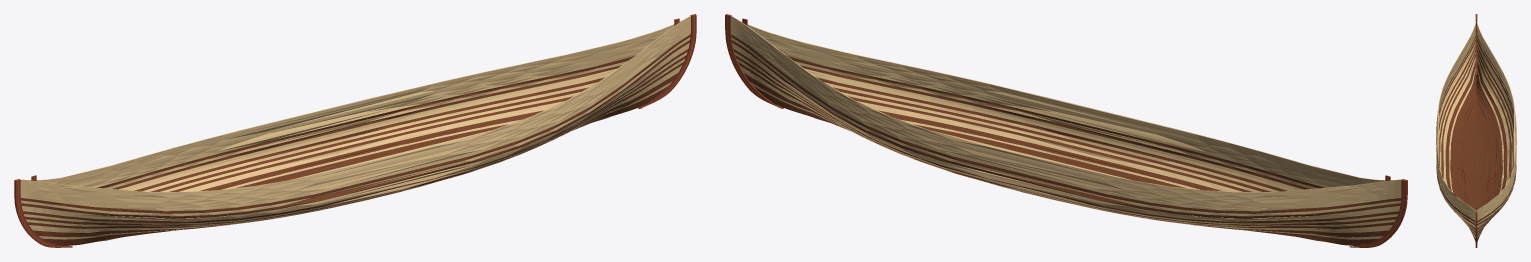
The model's file is canoe_hull_shell.glb.
The picture shows the model from 3 angles, left to right: view 1: azimuth 30°, elevation 25°; view 2: azimuth 150°, elevation 25°; view 3: azimuth 270°, elevation 25°; orthographic projection. The views are drawn at different scales.
Parts seen in each view (by area): view 1: strip_P01_light, strip_S01_light, strip_P04_light, strip_P02_light, strip_P03_light, strip_P08_dark, strip_P06_light, strip_P05_light, strip_P07_light, strip_P10_dark, strip_P09_light, strip_S02_light (+36 smaller); view 2: strip_S01_light, strip_P01_light, strip_S04_light, strip_S02_light, strip_S08_dark, strip_S03_light, strip_S05_light, strip_S06_light, strip_S07_light, strip_S10_dark, strip_S09_light, strip_P02_light (+36 smaller); view 3: strip_S01_light, strip_P01_light, strip_S17_dark, strip_P17_dark, strip_S20_dark, strip_P20_dark, strip_S26_dark, strip_S19_light, strip_P19_light, strip_S16_light, strip_P16_light, strip_S22_light (+64 smaller).
Part boxes in pixels (box(x1,y1,x2,y2)): strip_P01_light: box(20, 16, 690, 194); strip_S01_light: box(24, 18, 686, 182); strip_P04_light: box(20, 24, 690, 203); strip_P02_light: box(20, 18, 690, 197); strip_P03_light: box(20, 21, 690, 200); strip_P08_dark: box(21, 34, 690, 213); strip_P06_light: box(20, 29, 690, 208); strip_P05_light: box(20, 26, 690, 205); strip_P07_light: box(20, 32, 690, 211); strip_P10_dark: box(21, 40, 690, 218); strip_P09_light: box(21, 37, 690, 216); strip_S02_light: box(47, 29, 669, 183); strip_S01_light: box(731, 16, 1401, 194); strip_P01_light: box(735, 18, 1398, 182); strip_S04_light: box(731, 24, 1401, 203); strip_S02_light: box(731, 18, 1401, 197); strip_S08_dark: box(731, 34, 1400, 213); strip_S03_light: box(731, 21, 1401, 200); strip_S05_light: box(731, 26, 1401, 205); strip_S06_light: box(731, 29, 1401, 208); strip_S07_light: box(731, 32, 1401, 211); strip_S10_dark: box(731, 40, 1400, 218); strip_S09_light: box(731, 37, 1400, 216); strip_P02_light: box(752, 29, 1373, 183); strip_S01_light: box(1476, 15, 1515, 211); strip_P01_light: box(1437, 21, 1476, 211); strip_S17_dark: box(1477, 54, 1511, 235); strip_P17_dark: box(1441, 54, 1475, 235); strip_S20_dark: box(1477, 61, 1507, 239); strip_P20_dark: box(1445, 61, 1475, 239); strip_S26_dark: box(1476, 77, 1497, 199); strip_S19_light: box(1477, 59, 1508, 238); strip_P19_light: box(1444, 59, 1475, 238); strip_S16_light: box(1477, 52, 1512, 234); strip_P16_light: box(1440, 52, 1475, 234); strip_S22_light: box(1477, 67, 1503, 241).
Size of the model in its own units: 5182 by 635 by 886.
